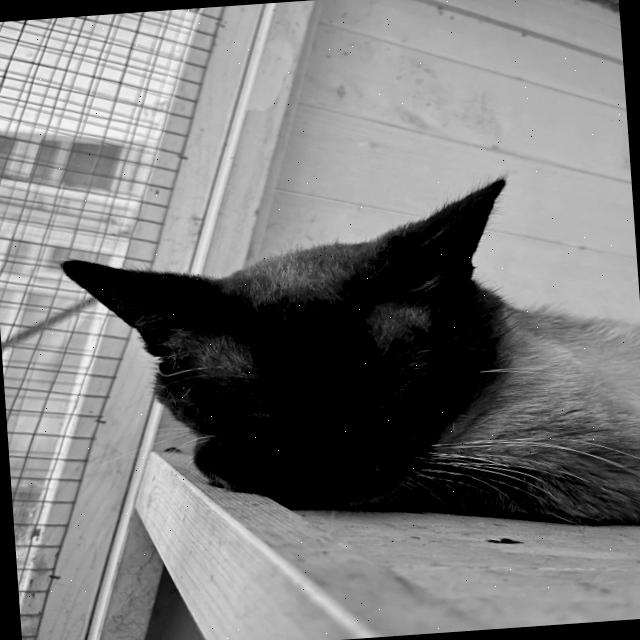siamese_cat: (41, 165, 580, 542)
